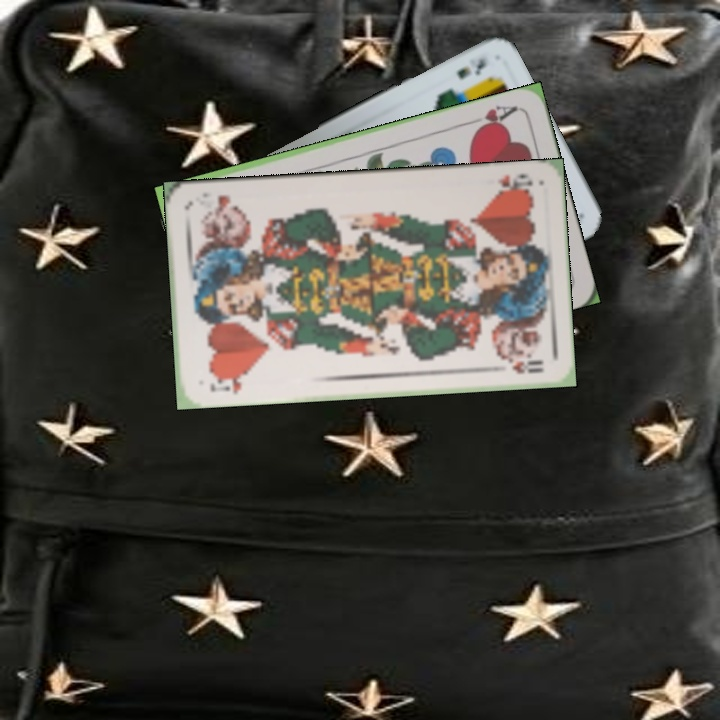EK: (453, 54, 489, 82)
HA: (463, 100, 521, 135)
HO: (206, 370, 251, 397), (489, 170, 535, 196)
